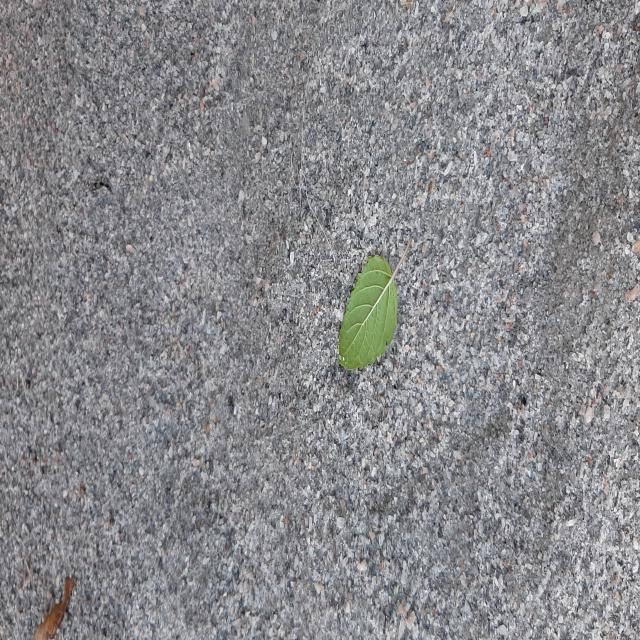tulsi: (339, 238, 412, 369)
